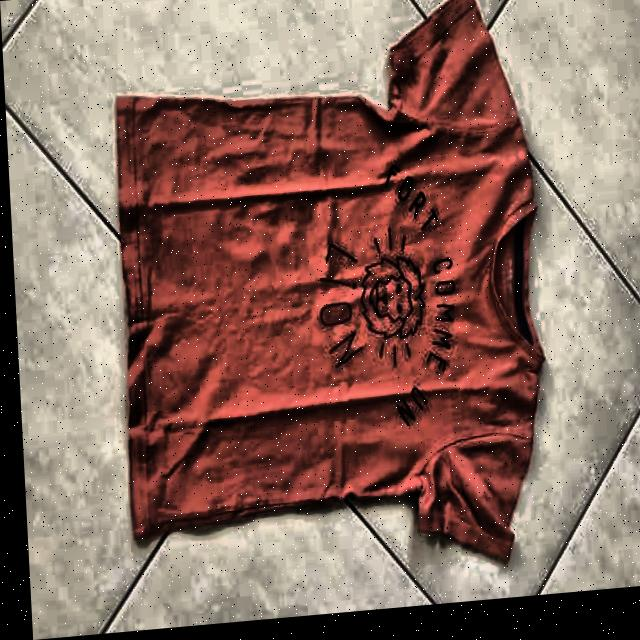clothes: (97, 0, 554, 601)
